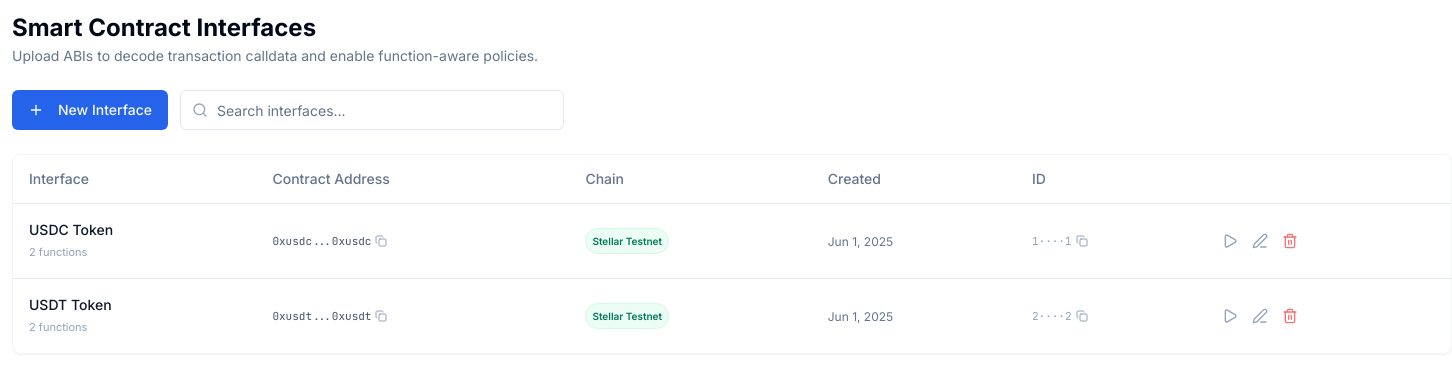
Scenario: Contract Interfaces Page › Search › filters by name
Expected: the text "USDC Token" is shown, [29, 220, 113, 238]
Expected: the text "USDT Token" is shown, [29, 296, 112, 312]
Type "USDC" into the field with placeholder "Search interfaces..." at x=372, y=110, box [180, 90, 564, 130]
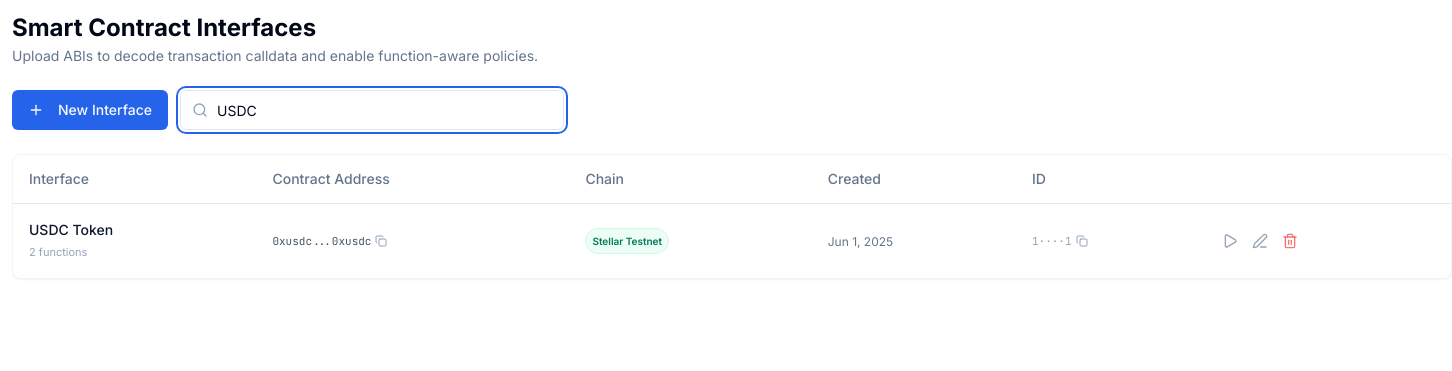
Expected: the text "USDC Token" is shown, [29, 220, 113, 238]
Now the text "USDT Token" is gone
